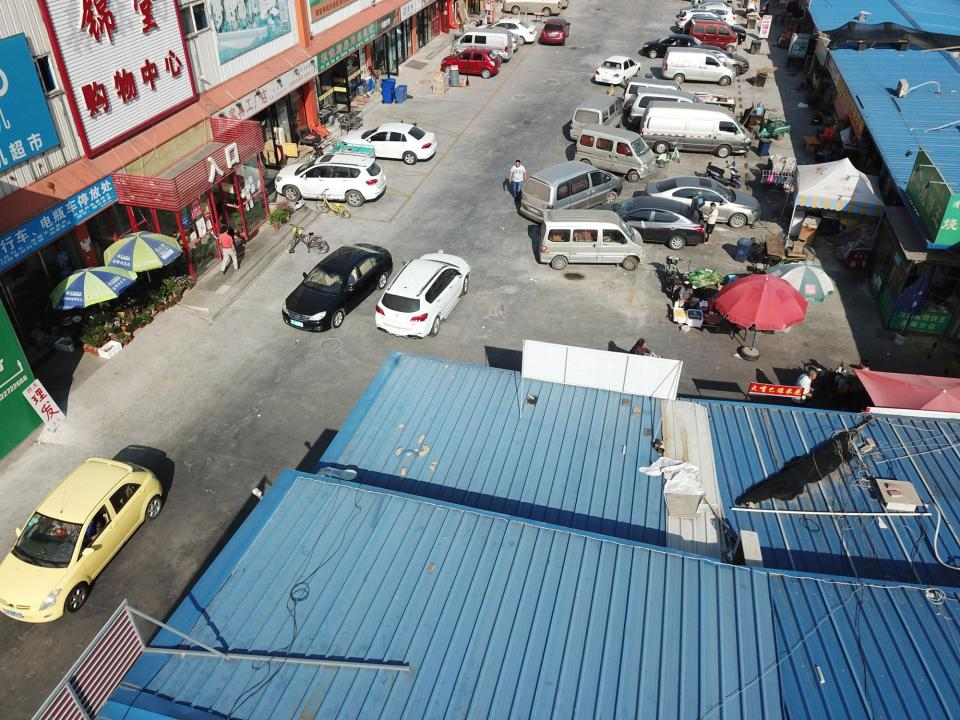bus: (501, 0, 562, 17)
car: (0, 455, 165, 625), (280, 243, 394, 334), (374, 251, 472, 340), (588, 195, 705, 251), (642, 175, 762, 229), (274, 153, 388, 208), (337, 121, 438, 166), (680, 44, 748, 77), (641, 33, 720, 60), (680, 15, 747, 44), (441, 47, 501, 79), (471, 18, 537, 46), (676, 8, 738, 34), (594, 54, 642, 86), (462, 26, 520, 52), (690, 6, 738, 26), (540, 18, 570, 46)
van: (519, 159, 622, 228), (537, 208, 644, 272), (638, 100, 752, 158), (573, 122, 656, 184), (628, 86, 718, 131), (660, 46, 737, 86), (620, 76, 694, 116), (569, 93, 624, 142), (450, 28, 513, 63), (688, 18, 739, 54)
